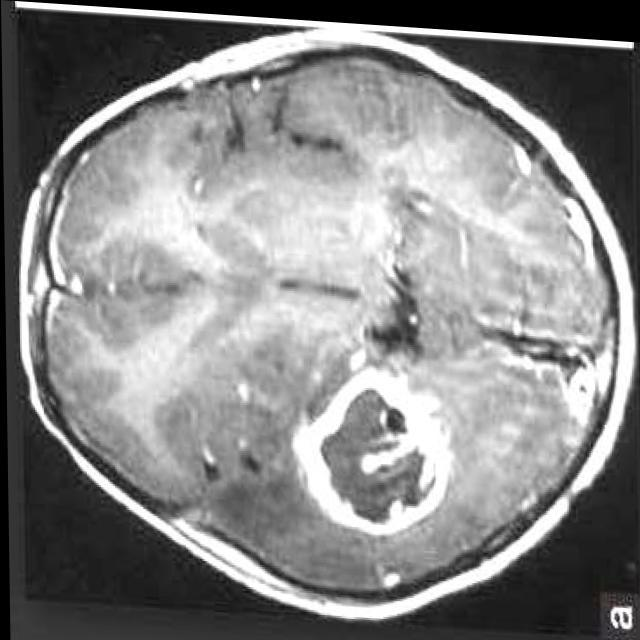Tumor: (293, 360, 445, 532)
